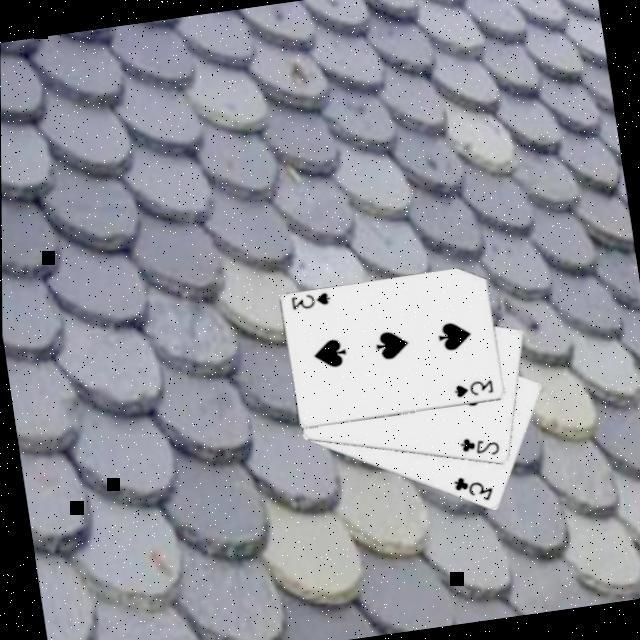2C: (456, 429, 504, 461)
3C: (450, 467, 497, 506)
3S: (450, 374, 498, 400), (288, 287, 334, 313)
